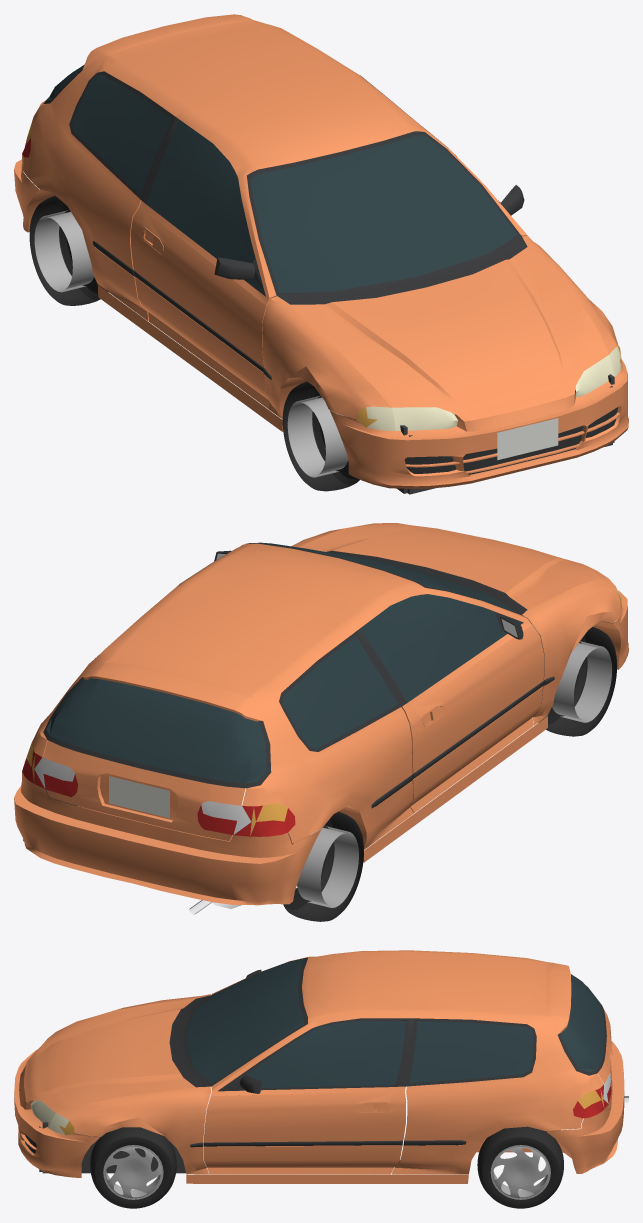
File: civic_eg_modular.glb
3 renders of one model, top to bottom at view 1: azimuth 30°, elevation 25°; view 2: azimuth 150°, elevation 25°; view 3: azimuth 270°, elevation 25°, orthographic. The views are drawn at different scales.
Visible parts, largest first — view 1: shell_base, hood_stock, windshield, bumper_front_stock, window_front_-1, fender_fr_stock, window_rear_-1, wheel_rr, wheel_fr, sideskirt_r_stock, spoiler_rear_stock, fender_fl_stock (+5 smaller); view 2: shell_base, bumper_rear_stock, rear_glass, hood_stock, window_front_-1, trunk_stock, window_rear_-1, wheel_rr, fender_fr_stock, wheel_fr, spoiler_rear_stock, taillight_r (+4 smaller); view 3: shell_base, hood_stock, windshield, window_front_1, window_rear_1, fender_fl_stock, wheel_rl, wheel_fl, bumper_front_stock, bumper_rear_stock, rear_glass, sideskirt_l_stock (+6 smaller).
Boxes of the visible parts, bbox=[...] form: shell_base: bbox=[22, 20, 614, 494]; hood_stock: bbox=[291, 247, 608, 421]; windshield: bbox=[250, 135, 517, 292]; bumper_front_stock: bbox=[330, 359, 628, 488]; window_front_-1: bbox=[146, 119, 265, 296]; fender_fr_stock: bbox=[262, 296, 391, 419]; window_rear_-1: bbox=[72, 75, 172, 194]; wheel_rr: bbox=[29, 195, 108, 305]; wheel_fr: bbox=[282, 381, 359, 491]; sideskirt_r_stock: bbox=[97, 285, 283, 431]; spoiler_rear_stock: bbox=[82, 14, 252, 69]; fender_fl_stock: bbox=[522, 235, 619, 354]; shell_base: bbox=[31, 543, 614, 849]; bumper_rear_stock: bbox=[14, 771, 321, 914]; rear_glass: bbox=[46, 678, 266, 783]; hood_stock: bbox=[300, 523, 608, 609]; window_front_-1: bbox=[360, 594, 523, 702]; trunk_stock: bbox=[43, 740, 245, 840]; window_rear_-1: bbox=[282, 636, 397, 748]; wheel_rr: bbox=[283, 811, 363, 921]; fender_fr_stock: bbox=[522, 578, 620, 725]; wheel_fr: bbox=[535, 627, 616, 736]; spoiler_rear_stock: bbox=[83, 660, 262, 721]; taillight_r: bbox=[197, 801, 295, 836]; shell_base: bbox=[39, 950, 606, 1174]; hood_stock: bbox=[24, 998, 195, 1112]; windshield: bbox=[185, 959, 303, 1083]; window_front_1: bbox=[248, 1018, 406, 1088]; window_rear_1: bbox=[409, 1021, 533, 1083]; fender_fl_stock: bbox=[56, 1086, 211, 1174]; wheel_rl: bbox=[477, 1126, 563, 1208]; wheel_fl: bbox=[90, 1127, 176, 1208]; bumper_front_stock: bbox=[14, 1049, 99, 1177]; bumper_rear_stock: bbox=[546, 1041, 628, 1173]; rear_glass: bbox=[560, 974, 604, 1071]; sideskirt_l_stock: bbox=[186, 1174, 468, 1183].
Size of the model in its own units: 1.76 by 1.29 by 3.97.
